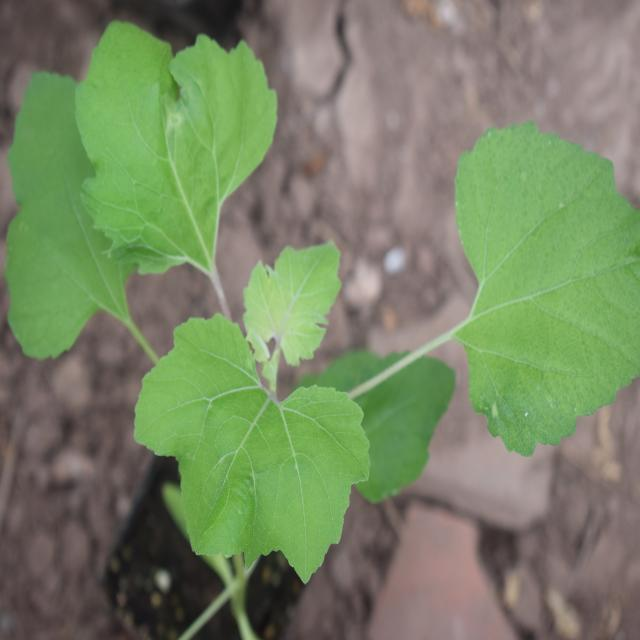cocklebur: (9, 17, 606, 568)
